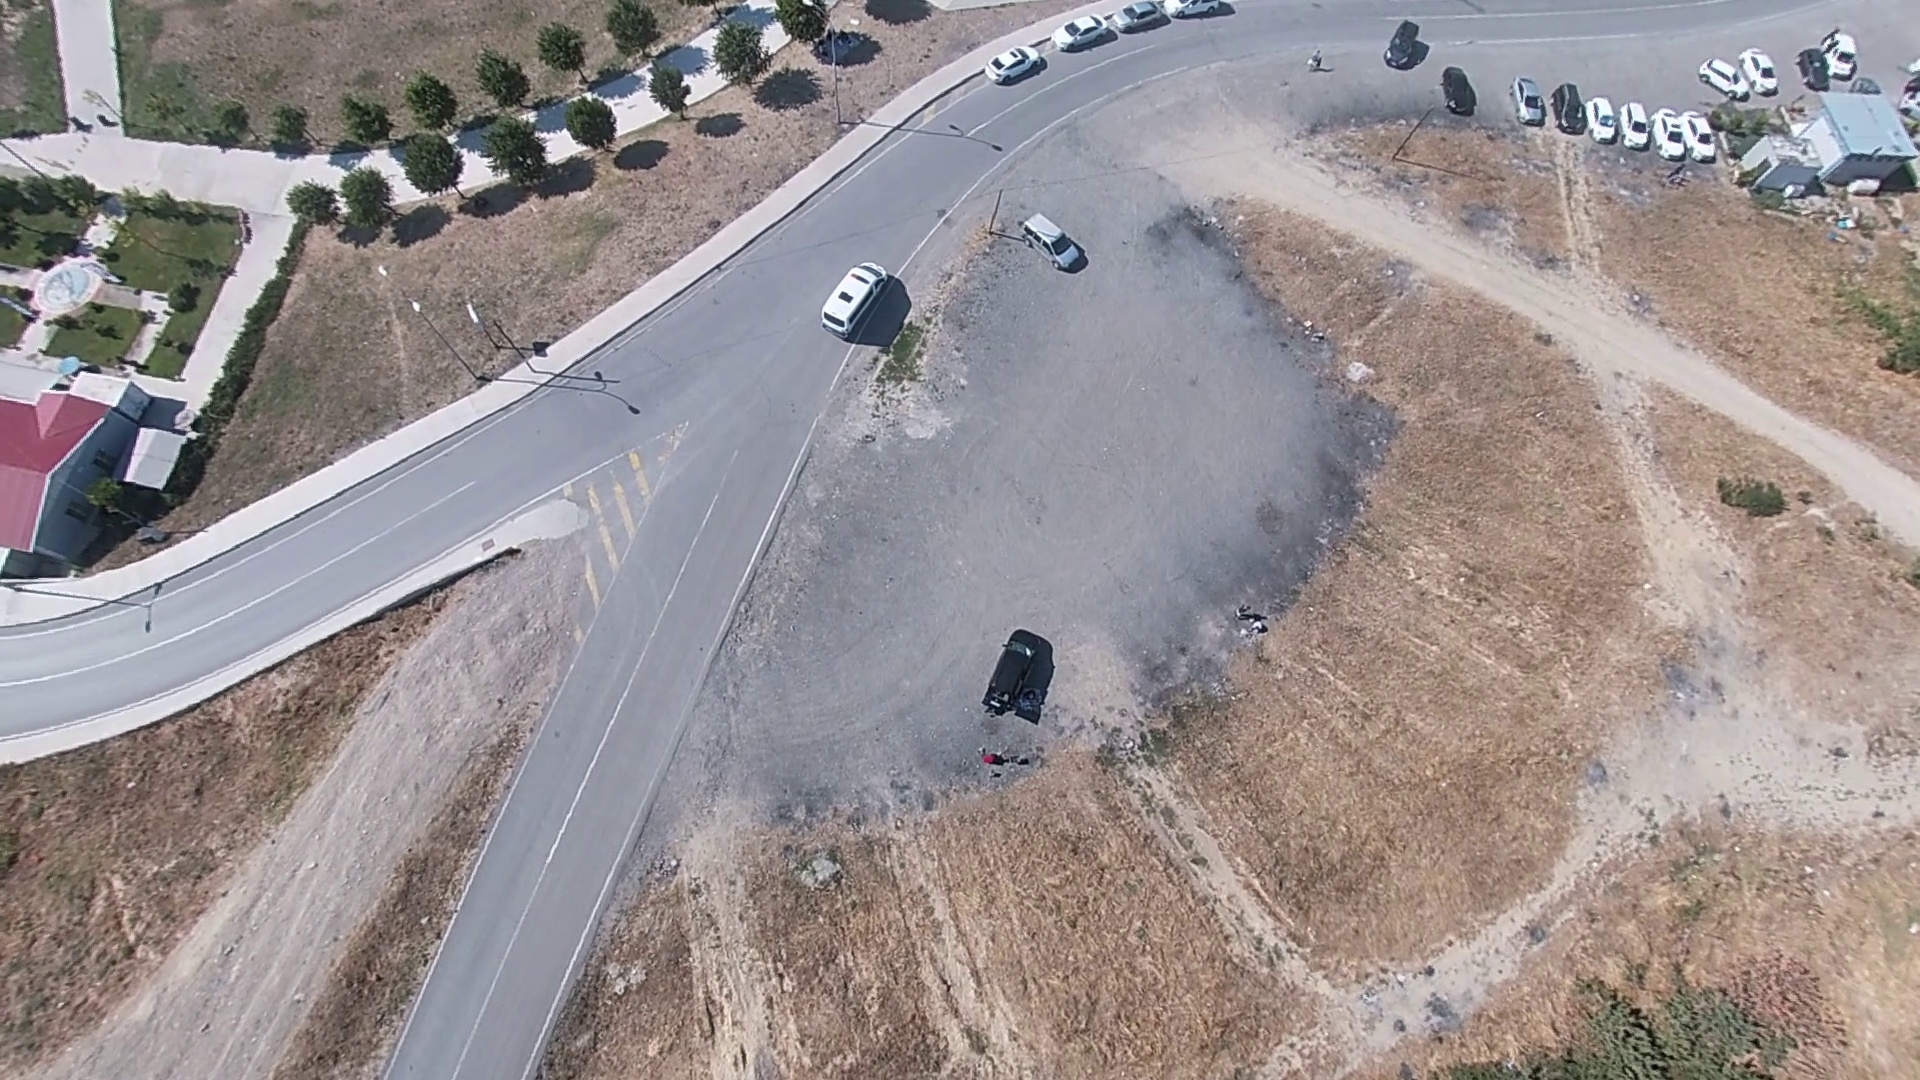araba: (977, 631, 1049, 725), (820, 255, 894, 331), (1029, 211, 1090, 269), (988, 41, 1054, 85), (1056, 9, 1119, 45), (1702, 53, 1749, 102), (1650, 106, 1688, 162), (1681, 108, 1720, 163), (1741, 46, 1780, 97), (1441, 63, 1477, 118), (1382, 20, 1424, 65), (1550, 82, 1585, 135), (1508, 77, 1546, 124), (1618, 98, 1651, 150), (1827, 28, 1859, 79), (1113, 1, 1166, 32), (1586, 92, 1615, 142), (1799, 45, 1830, 90)
insan: (1306, 49, 1324, 70)
